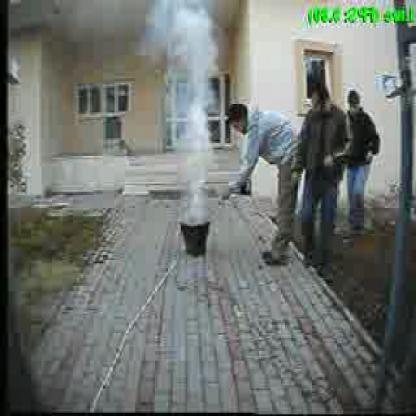Smoke: (138, 0, 220, 227)
